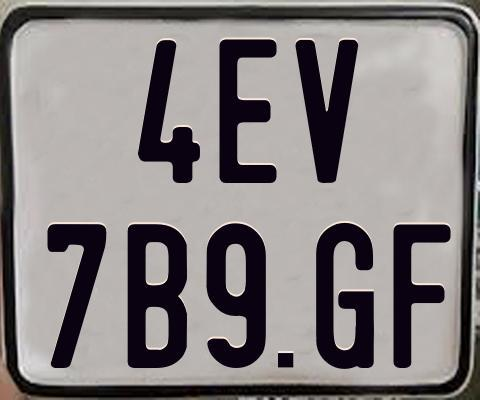4: (136, 37, 202, 182)
7: (44, 221, 106, 365)
9: (206, 220, 269, 365)
B: (125, 223, 188, 369)
E: (218, 38, 282, 182)
F: (392, 224, 450, 369)
G: (313, 222, 377, 368)
V: (295, 38, 361, 181)
